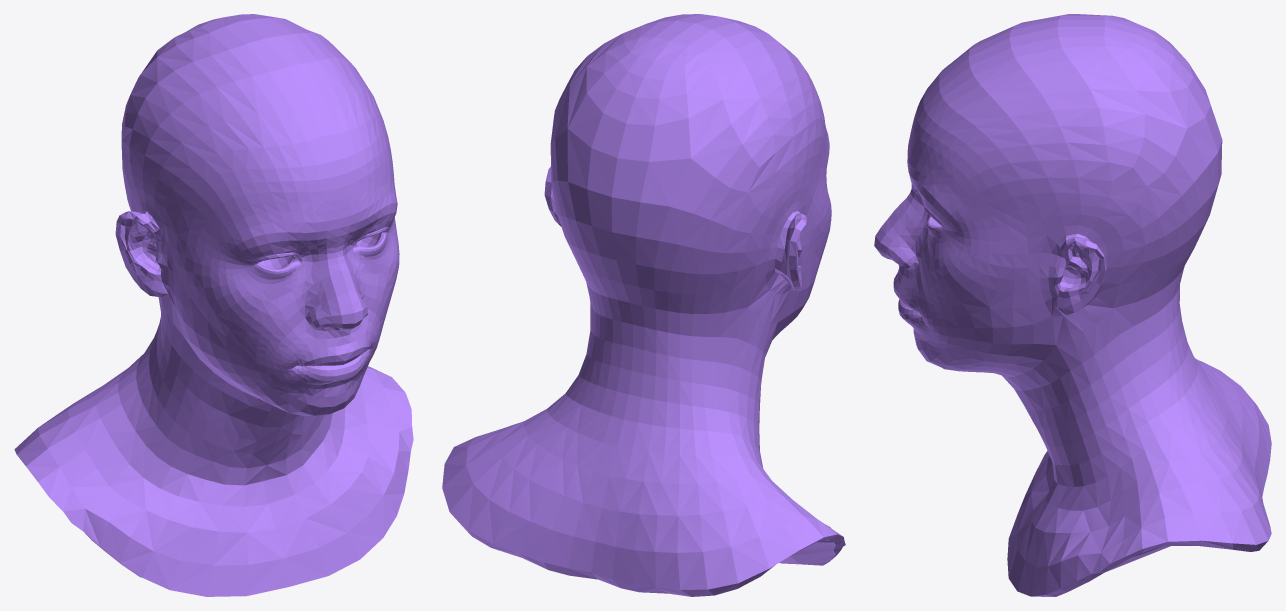
The model's file is enemy_1.glb.
The picture shows the model from 3 angles, left to right: view 1: azimuth 30°, elevation 25°; view 2: azimuth 150°, elevation 25°; view 3: azimuth 270°, elevation 25°; orthographic projection.
Parts seen in each view (by area): view 1: GEO-head_sculpting_realistic; view 2: GEO-head_sculpting_realistic; view 3: GEO-head_sculpting_realistic.
Boxes of the visible parts, x1,y1,x2,y2 form: GEO-head_sculpting_realistic: (14, 14, 413, 596); GEO-head_sculpting_realistic: (442, 14, 845, 596); GEO-head_sculpting_realistic: (874, 14, 1271, 596).
Size of the model in its own units: 1.05 by 1.46 by 0.9828.
